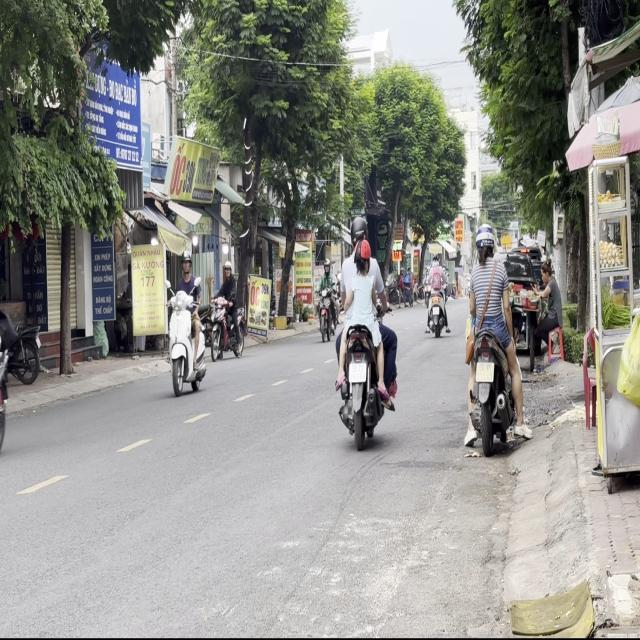helmet: (474, 224, 495, 260), (354, 238, 372, 276), (349, 214, 368, 241), (180, 250, 192, 276)
licenseplate: (332, 213, 398, 448), (460, 221, 525, 456), (166, 250, 206, 396)
nohelmet: (348, 363, 366, 383), (476, 362, 493, 381)
